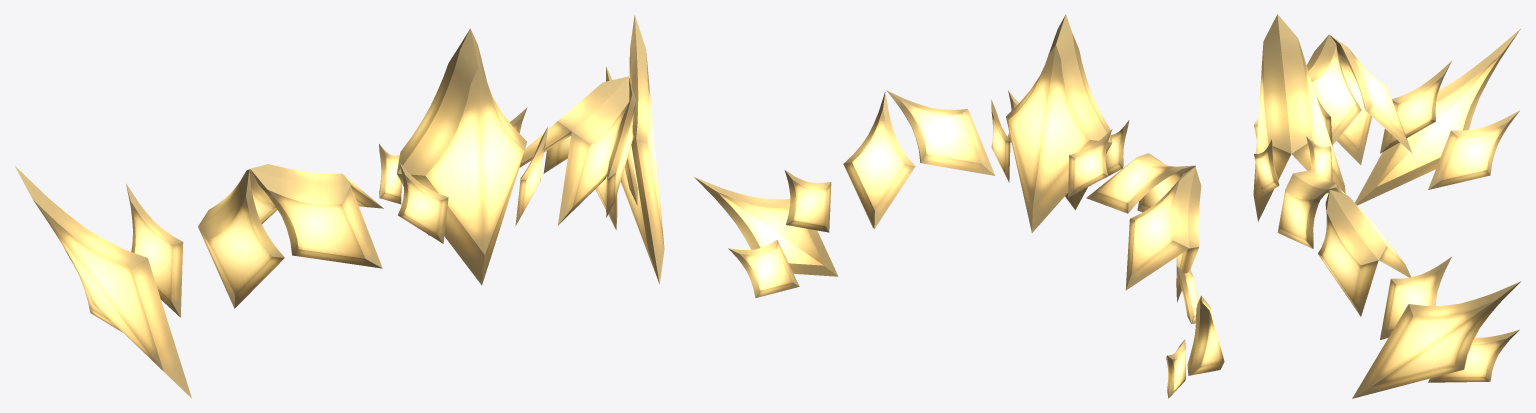
Rendered from Conviction Curve(Floating).fbx.
3 renders of one model, left to right at view 1: azimuth 30°, elevation 25°; view 2: azimuth 150°, elevation 25°; view 3: azimuth 270°, elevation 25°, orthographic. The views are drawn at different scales.
Visible parts, largest first — view 1: Conviction Curve(Floating); view 2: Conviction Curve(Floating); view 3: Conviction Curve(Floating).
Boxes of the visible parts, box(x1,y1,x2,y2) form: Conviction Curve(Floating): box(15, 14, 664, 398); Conviction Curve(Floating): box(694, 14, 1224, 398); Conviction Curve(Floating): box(1253, 14, 1520, 398).
Bounding box in the file's own units: 0.2209 × 0.1178 × 0.0988.
